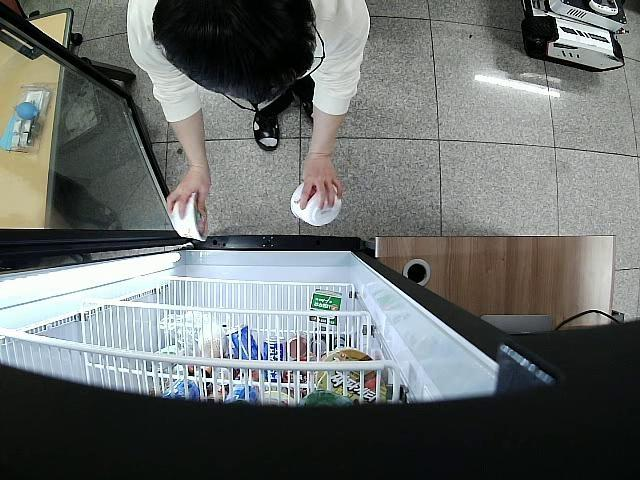09_yukGaeJang: (290, 182, 341, 226), (172, 192, 208, 240)
